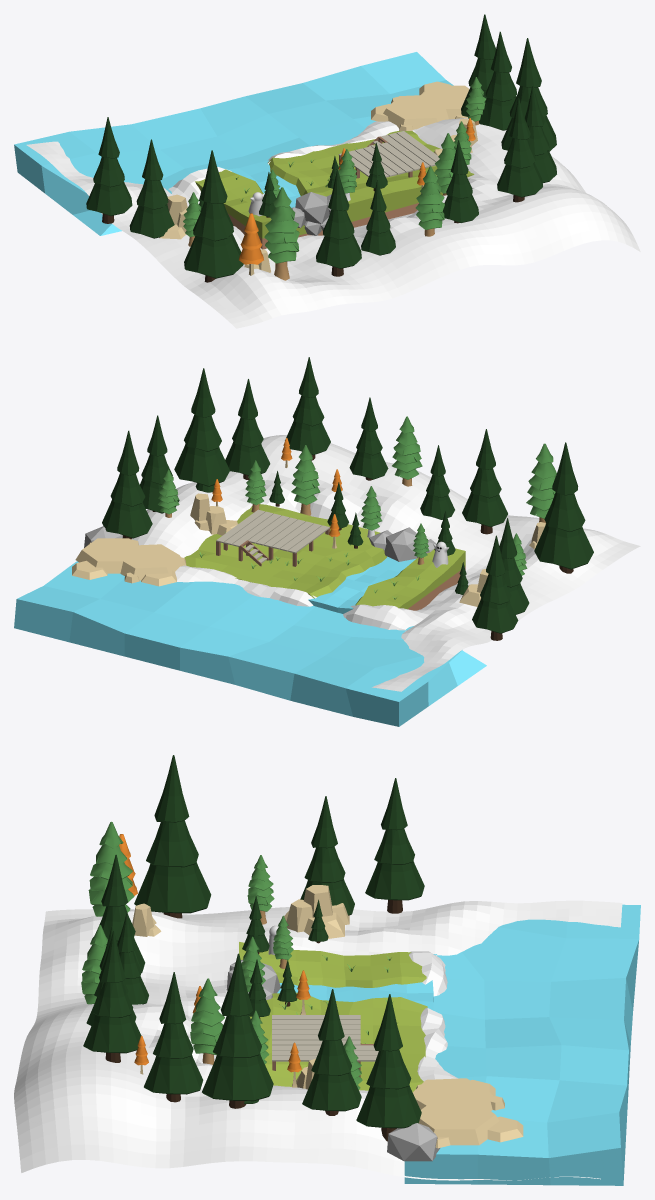
File: scenes.gltf
3 views of the same model, one above another, from view 1: azimuth 30°, elevation 25°; view 2: azimuth 150°, elevation 25°; view 3: azimuth 270°, elevation 25° (orthographic). The views are drawn at different scales.
Parts seen in each view (by area): view 1: Plane, River.001, Ground.001, Tree.25, rockFlat, Floor & stairs, Tree.21, Tree.14, Tree.10, Tree.17, Tree.13, Tree.20 (+16 smaller); view 2: River.001, Plane, Ground.001, rockFlat, Tree.25, Floor & stairs, Tree.24, Tree.23, Tree.21, Tree.14, Tree.10, Tree.16 (+13 smaller); view 3: Plane, River.001, Ground.001, Tree.25, rockFlat, Tree.24, Tree.23, Tree.21, Tree.16, Tree.10, Tree.20, Floor & stairs (+15 smaller).
Boxes of the visible parts, x1,y1,x2,y2 form: Plane: (26,118,640,328); River.001: (14,52,453,235); Ground.001: (195,131,474,238); Tree.25: (184,150,243,282); rockFlat: (371,81,469,130); Floor & stairs: (338,131,439,178); Tree.21: (86,117,132,223); Tree.14: (316,169,361,276); Tree.10: (497,98,542,202); Tree.17: (129,139,174,238); Tree.13: (264,187,299,280); Tree.20: (479,31,516,130); River.001: (14,561,486,726); Plane: (122,435,640,691); Ground.001: (184,504,465,609); rockFlat: (72,538,186,586); Tree.25: (534,442,593,573); Floor & stairs: (216,509,329,566); Tree.24: (174,368,229,486); Tree.23: (102,430,152,539); Tree.21: (472,535,518,640); Tree.14: (462,429,507,534); Tree.10: (285,357,330,460); Tree.16: (225,379,270,479); Plane: (14,900,622,1180); River.001: (404,904,640,1185); Ground.001: (239,942,427,1092); Tree.25: (134,755,211,918); rockFlat: (412,1078,523,1148); Tree.24: (202,953,273,1108); Tree.23: (356,994,421,1141); Tree.21: (365,778,424,913); Tree.16: (144,972,203,1102); Tree.10: (83,931,141,1062); Tree.20: (302,989,361,1115); Floor & stairs: (272,1015,378,1077).
Size of the model in its own units: 70.35 by 25.84 by 70.41.
